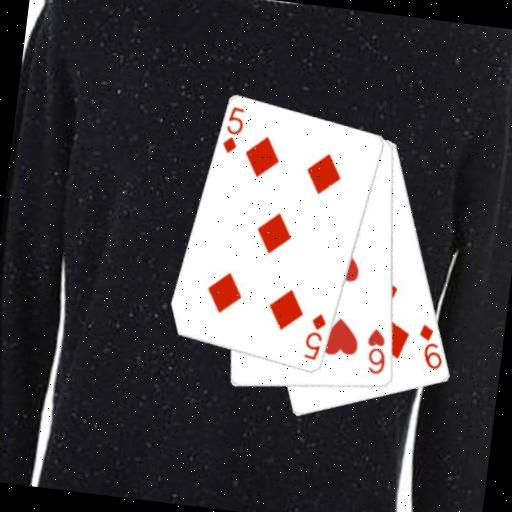5D: (300, 310, 330, 363), (218, 103, 247, 157)
6H: (362, 325, 392, 378)
9D: (413, 321, 449, 373)
